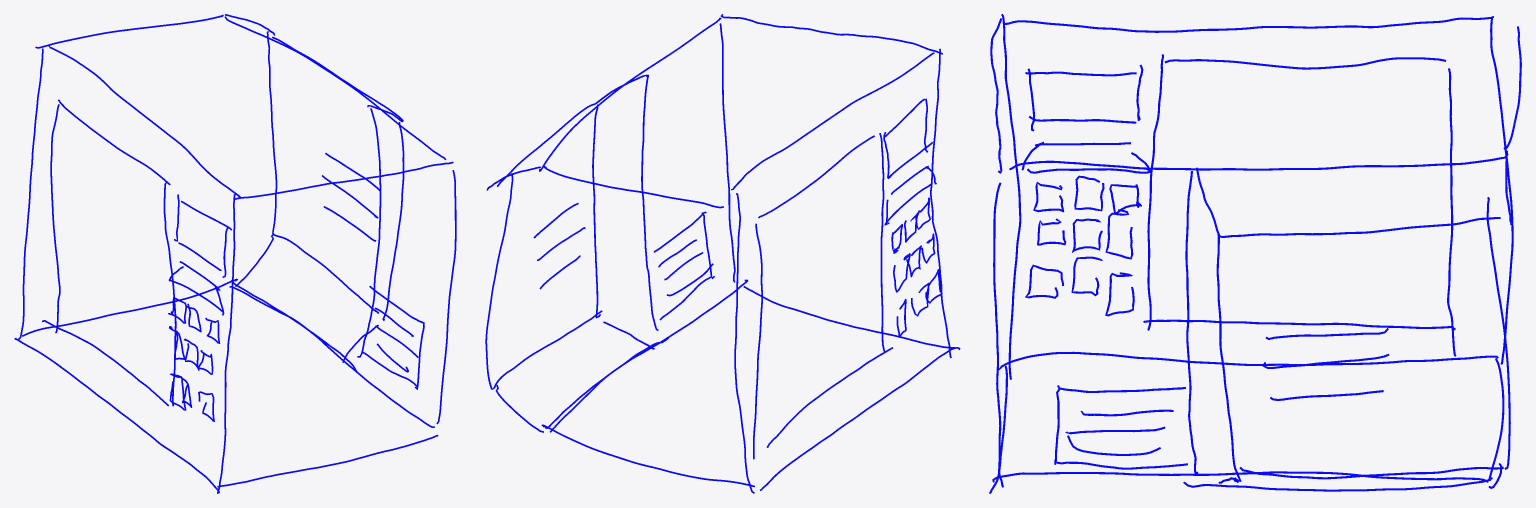
The model's file is scaffold_sketch_P5_open.glb.
3 renders of one model, left to right at view 1: azimuth 30°, elevation 25°; view 2: azimuth 150°, elevation 25°; view 3: azimuth 270°, elevation 25°, orthographic. The views are drawn at different scales.
Visible parts, largest first — view 1: scaffold_sketch_P5_open; view 2: scaffold_sketch_P5_open; view 3: scaffold_sketch_P5_open.
Boxes of the visible parts, x1,y1,x2,y2 form: scaffold_sketch_P5_open: (14,14,456,493); scaffold_sketch_P5_open: (485,14,960,493); scaffold_sketch_P5_open: (989,14,1521,493).
Size of the model in its own units: 0.7597 by 0.7853 by 1.
